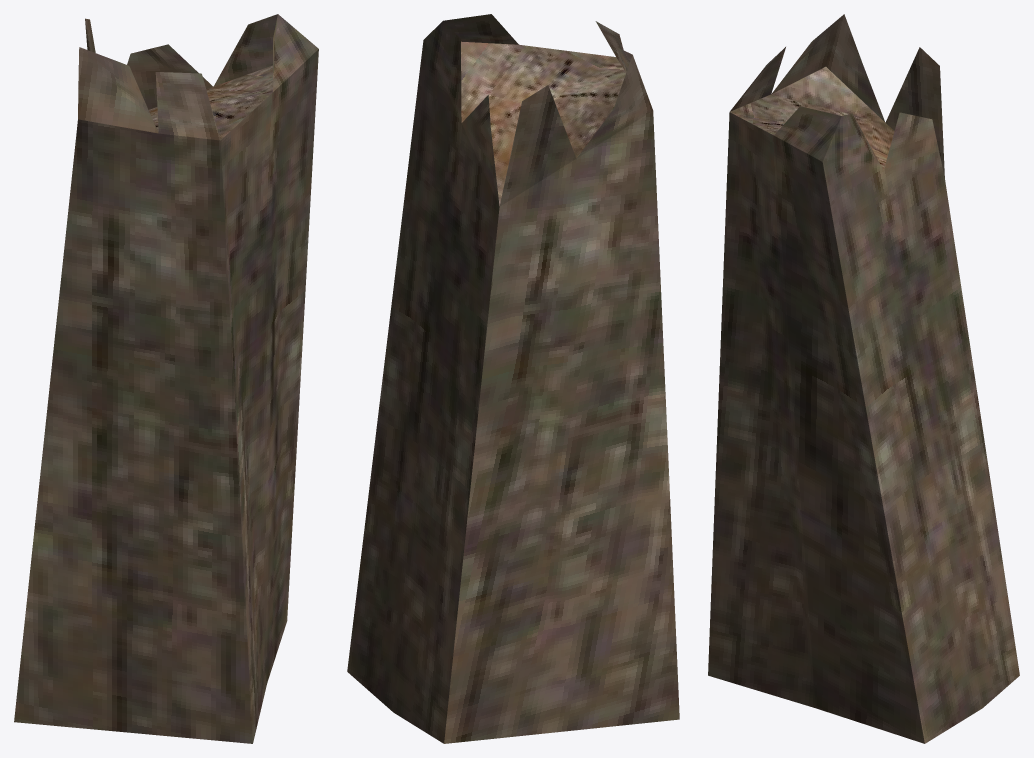
The model's file is lf_wooden_fence_post_stump.glb.
The picture shows the model from 3 angles, left to right: view 1: azimuth 30°, elevation 25°; view 2: azimuth 150°, elevation 25°; view 3: azimuth 270°, elevation 25°; orthographic projection. The views are drawn at different scales.
Visible parts, largest first — view 1: wooden_fence_pole_broken_small; view 2: wooden_fence_pole_broken_small; view 3: wooden_fence_pole_broken_small.
Boxes of the visible parts, x1,y1,x2,y2 form: wooden_fence_pole_broken_small: (14, 14, 318, 743); wooden_fence_pole_broken_small: (347, 14, 679, 743); wooden_fence_pole_broken_small: (708, 14, 1019, 743).
Size of the model in its own units: 0.2193 by 0.4535 by 0.2079.
1 material, 1 textured.
